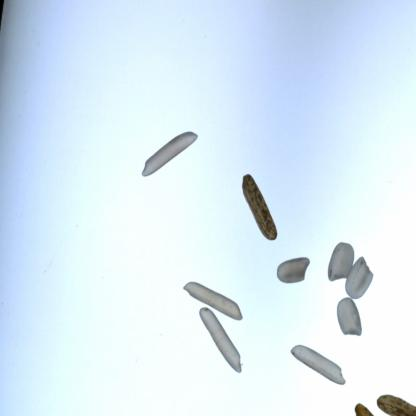Full: (134, 107, 202, 190), (221, 172, 284, 249), (192, 302, 247, 380), (176, 279, 246, 320), (289, 342, 353, 383), (266, 242, 312, 285), (331, 294, 371, 338), (344, 252, 376, 302), (324, 236, 353, 284), (376, 382, 416, 416), (341, 394, 376, 416)
